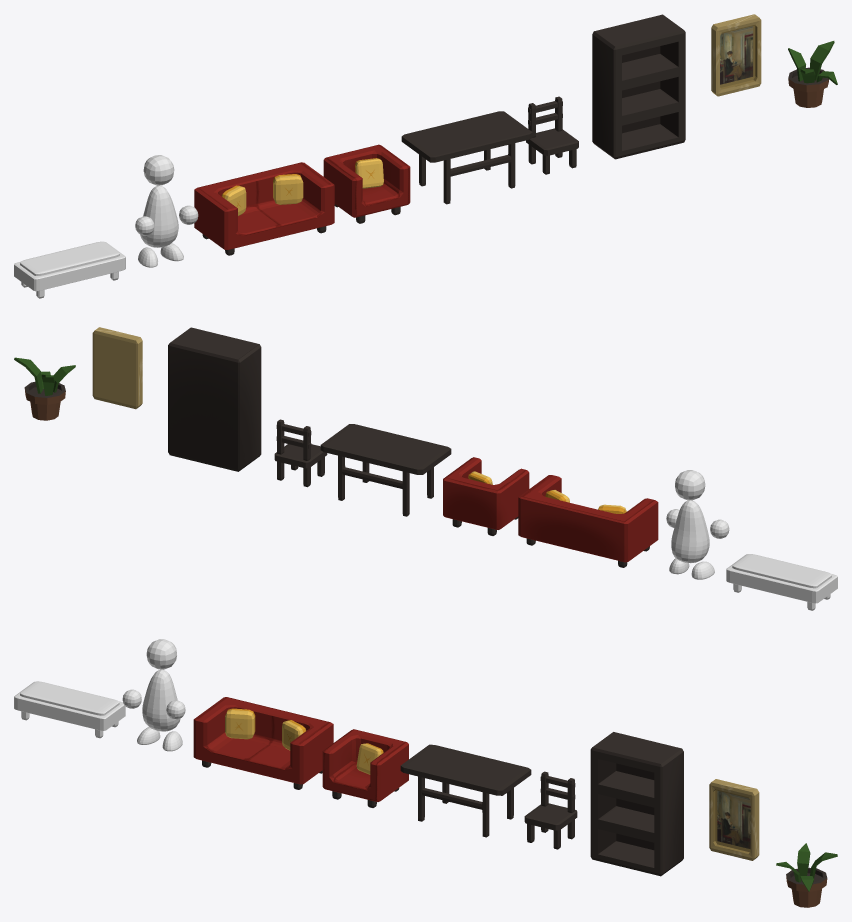
Rendered from Armchair.fbx.
The picture shows the model from 3 angles, top to bottom: view 1: azimuth 30°, elevation 25°; view 2: azimuth 150°, elevation 25°; view 3: azimuth 330°, elevation 25°; orthographic projection.
Visible parts, largest first — view 1: Bookshelf, Sofa, Table, Armchair, Painting, Bench, Base Model, Chair, Flower Pot; view 2: Bookshelf, Sofa, Table, Armchair, Painting, Base Model, Bench, Chair, Flower Pot; view 3: Bookshelf, Sofa, Table, Armchair, Painting, Bench, Base Model, Chair, Flower Pot.
Boxes of the visible parts, x1,y1,x2,y2 form: Bookshelf: (592, 14, 685, 159); Sofa: (194, 162, 334, 255); Table: (401, 111, 532, 204); Armchair: (323, 144, 410, 223); Painting: (711, 14, 761, 96); Bench: (14, 241, 125, 298); Base Model: (135, 155, 198, 267); Chair: (526, 96, 578, 174); Flower Pot: (788, 41, 837, 107); Bookshelf: (168, 327, 261, 471); Sofa: (518, 475, 658, 567); Table: (320, 424, 451, 516); Armchair: (443, 457, 529, 535); Painting: (92, 327, 142, 409); Base Model: (666, 470, 729, 579); Bench: (726, 554, 837, 610); Chair: (274, 419, 327, 487); Flower Pot: (14, 357, 75, 420); Bookshelf: (590, 732, 683, 876); Sofa: (193, 697, 333, 789); Table: (400, 744, 531, 837); Armchair: (322, 729, 408, 807); Painting: (709, 779, 759, 860); Bench: (14, 681, 125, 738); Base Model: (122, 639, 185, 751); Chair: (524, 771, 577, 849); Flower Pot: (776, 843, 837, 907).
Size of the model in its own units: 4214 by 562 by 286.
Materials: 7 (7 with a texture image).
